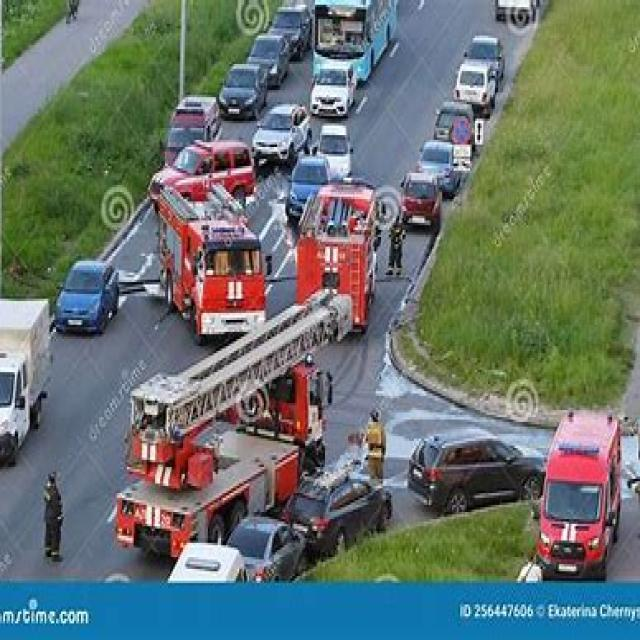Fire-engine: (114, 284, 352, 560), (152, 174, 269, 344), (294, 176, 379, 334), (0, 294, 53, 467), (310, 0, 397, 85)
